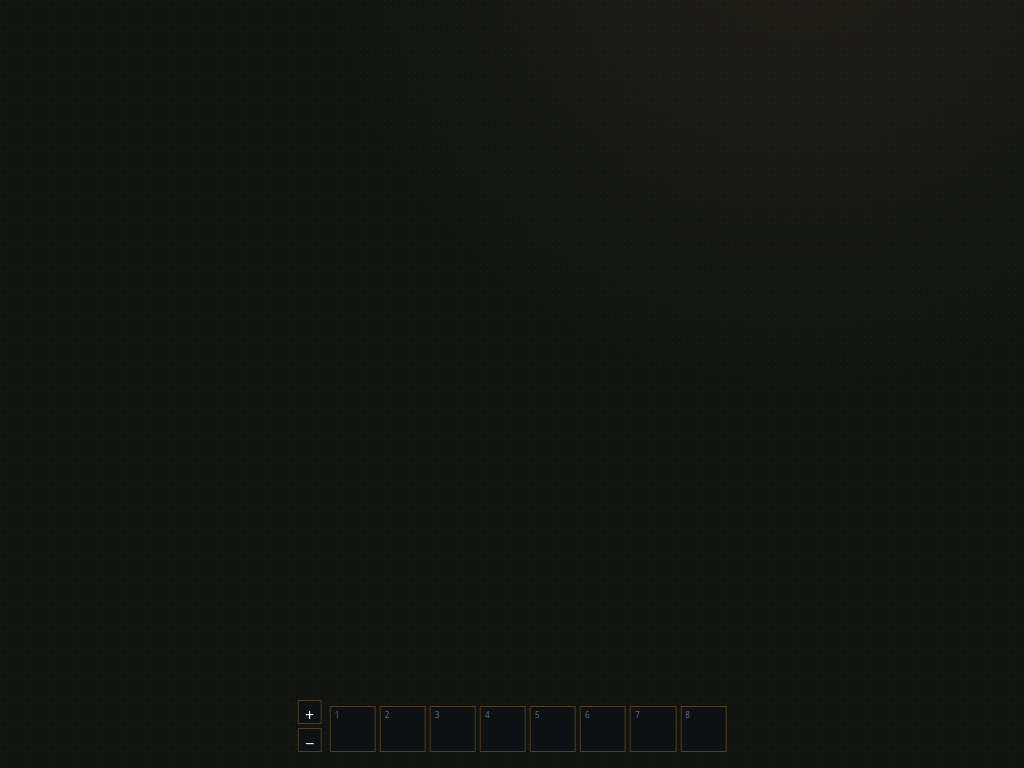
Scenario: GameShortcutPanel › renders eight bottom slots and expands upward
The image size is (1024, 768).
Click the button with id "SHORTCUT_ROWS_EXPAND" at [310, 712], box [298,700,322,724]
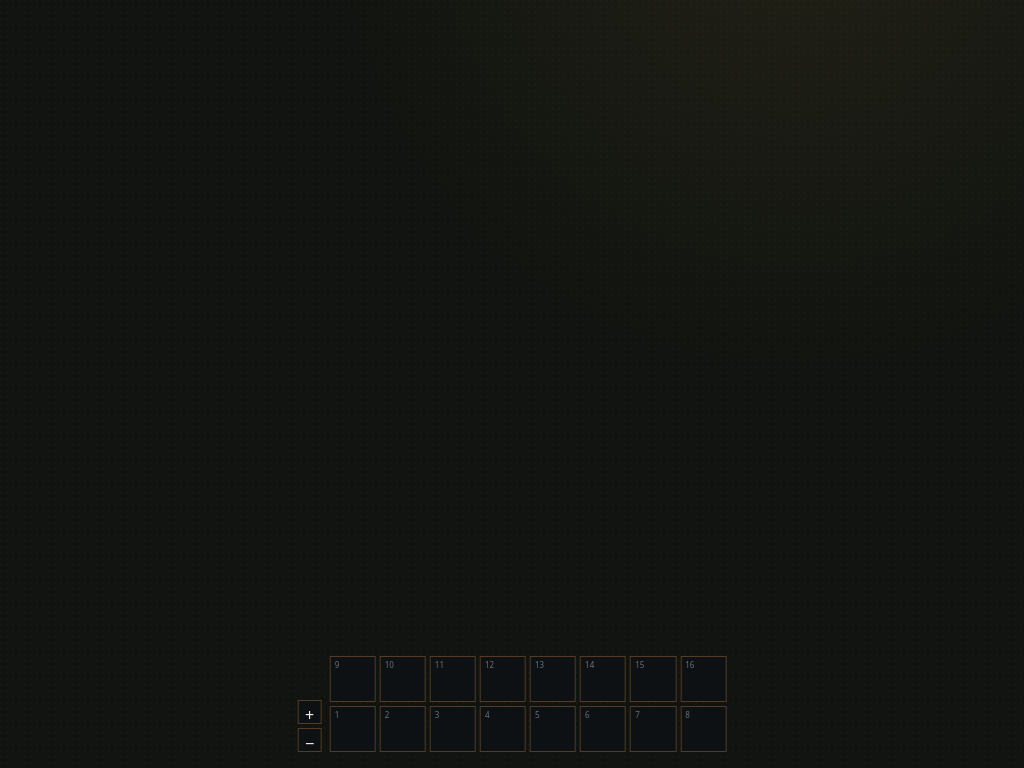
Expected: the number of buttons with class "ew-shortcuts__slot" is 16
Expected: the text with class "ew-shortcuts__number" reads "9", [335,659,339,670]
